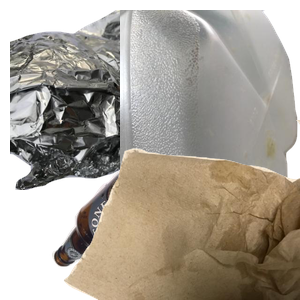glass: (49, 145, 229, 300)
metal: (10, 10, 250, 190)
plastic: (120, 10, 300, 190)
trash: (60, 120, 300, 300)
